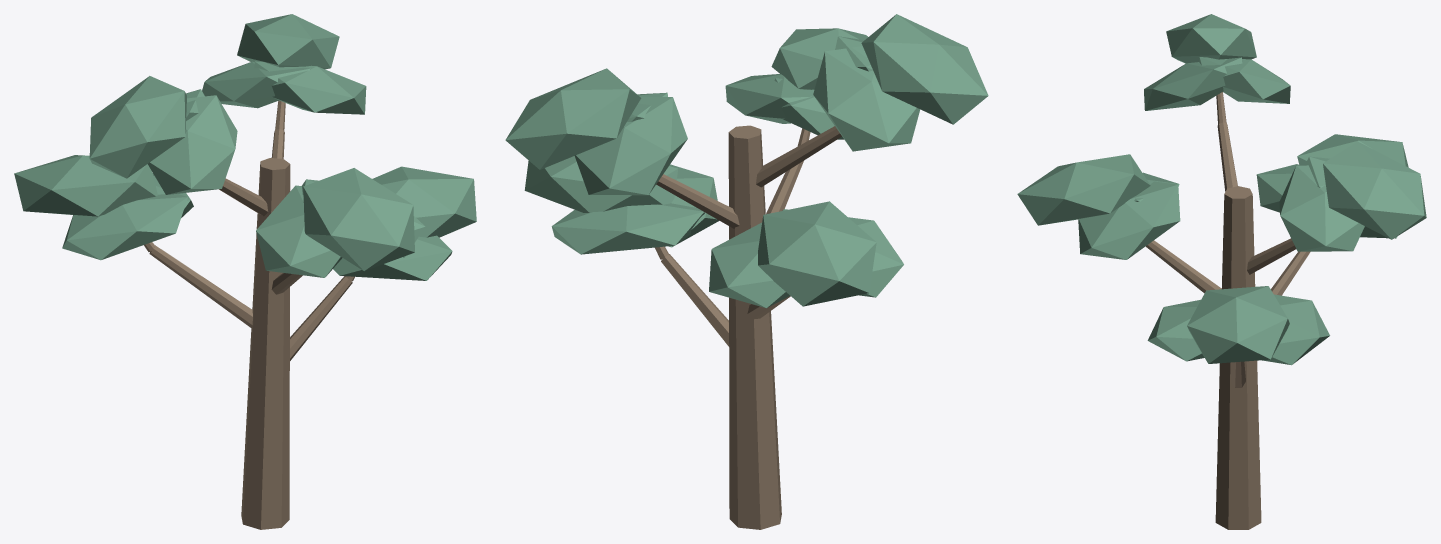
Rendered from OpenCanopyTree.fbx.
3 renders of one model, left to right at view 1: azimuth 30°, elevation 25°; view 2: azimuth 150°, elevation 25°; view 3: azimuth 270°, elevation 25°, orthographic. The views are drawn at different scales.
Visible parts, largest first — view 1: OpenCanopyTree; view 2: OpenCanopyTree; view 3: OpenCanopyTree.
Boxes of the visible parts, left/top/right/bottom form: OpenCanopyTree: left=14, top=14, right=476, bottom=529; OpenCanopyTree: left=505, top=14, right=988, bottom=529; OpenCanopyTree: left=1017, top=14, right=1426, bottom=529.
Bounding box in the file's own units: 316 × 355 × 296.
